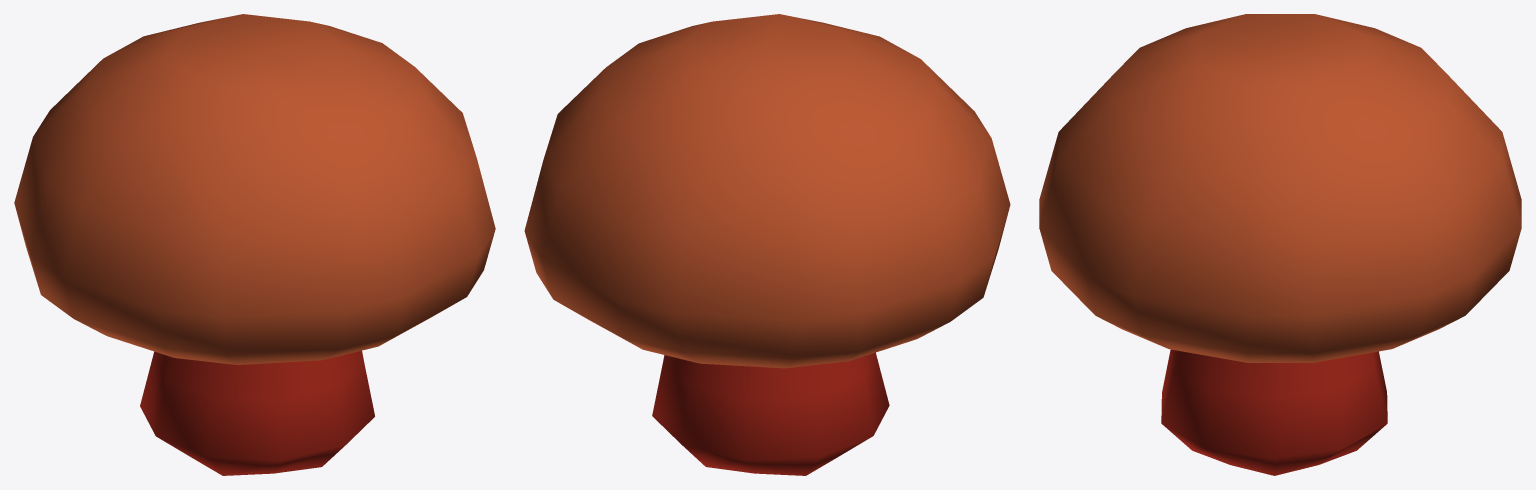
Rendered from mdl_champignonAnim.fbx.
The picture shows the model from 3 angles, left to right: view 1: azimuth 30°, elevation 25°; view 2: azimuth 150°, elevation 25°; view 3: azimuth 270°, elevation 25°; orthographic projection.
Parts seen in each view (by area): view 1: mdl_champignon; view 2: mdl_champignon; view 3: mdl_champignon.
Boxes of the visible parts, left/top/right/bottom form: mdl_champignon: left=14, top=14, right=495, bottom=475; mdl_champignon: left=524, top=14, right=1010, bottom=475; mdl_champignon: left=1039, top=14, right=1521, bottom=475.
Bounding box in the file's own units: 36.58 × 32.69 × 36.58.
